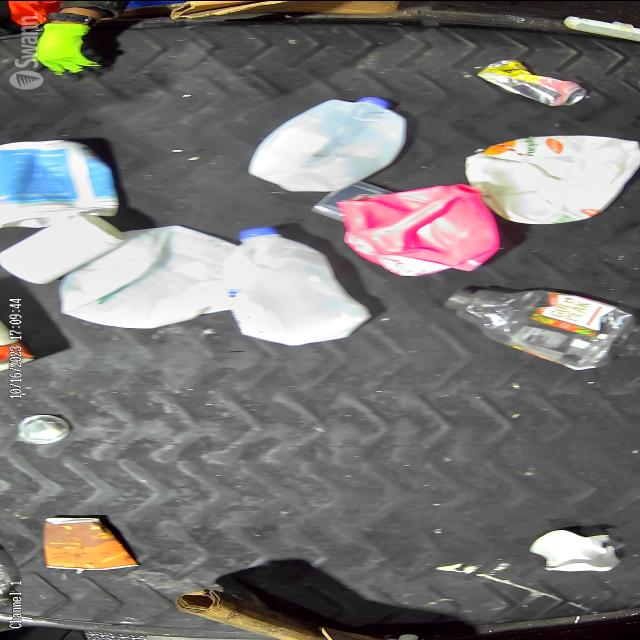can: (472, 61, 586, 106), (15, 412, 70, 448)
milk_jug: (234, 230, 372, 348), (246, 102, 396, 192)
non_white_jug: (343, 188, 489, 272)
plastic_bottle: (447, 285, 630, 363)
